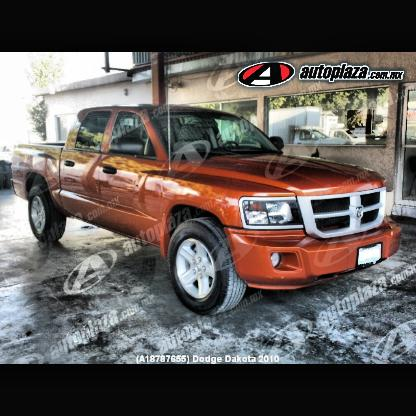Dodge Dakota Crew Cab 2010: (12, 105, 402, 318)
